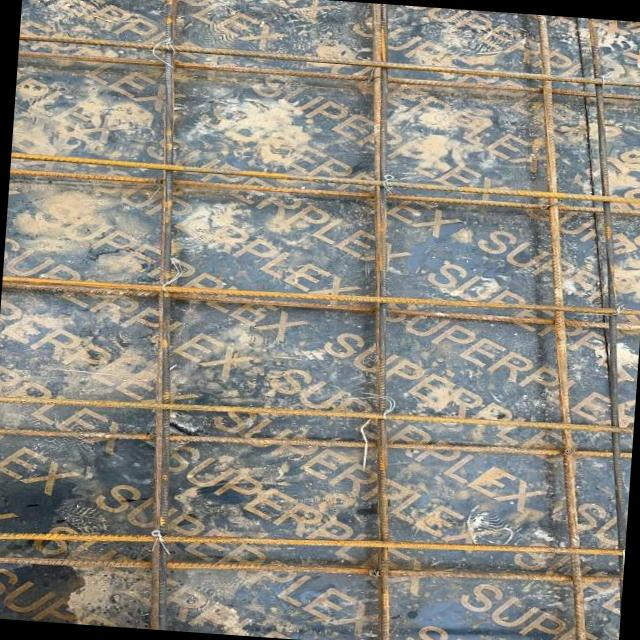ribbed bar: (493, 14, 631, 640), (327, 3, 435, 640), (119, 0, 202, 628), (0, 504, 624, 582), (550, 18, 640, 548), (0, 405, 631, 480), (0, 532, 622, 608), (0, 382, 632, 447), (1, 264, 640, 325), (1, 278, 640, 334), (18, 32, 640, 89), (9, 165, 640, 220), (10, 151, 640, 204), (17, 50, 640, 103)
